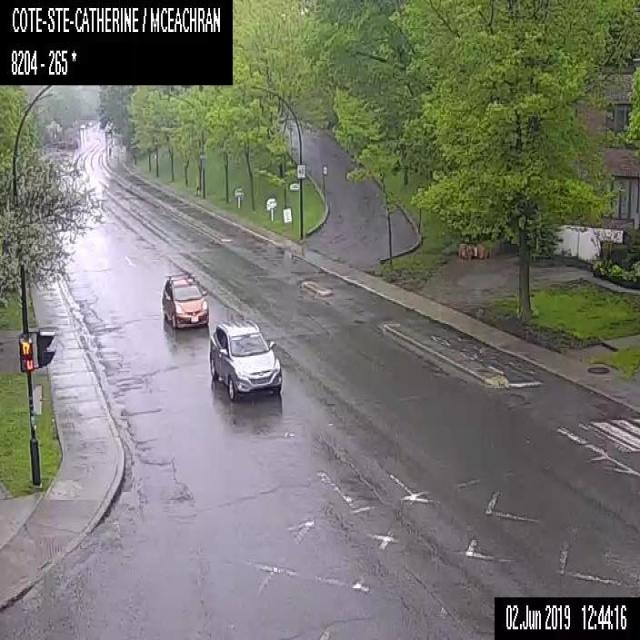vehicle: (208, 317, 282, 400), (161, 273, 207, 328)
